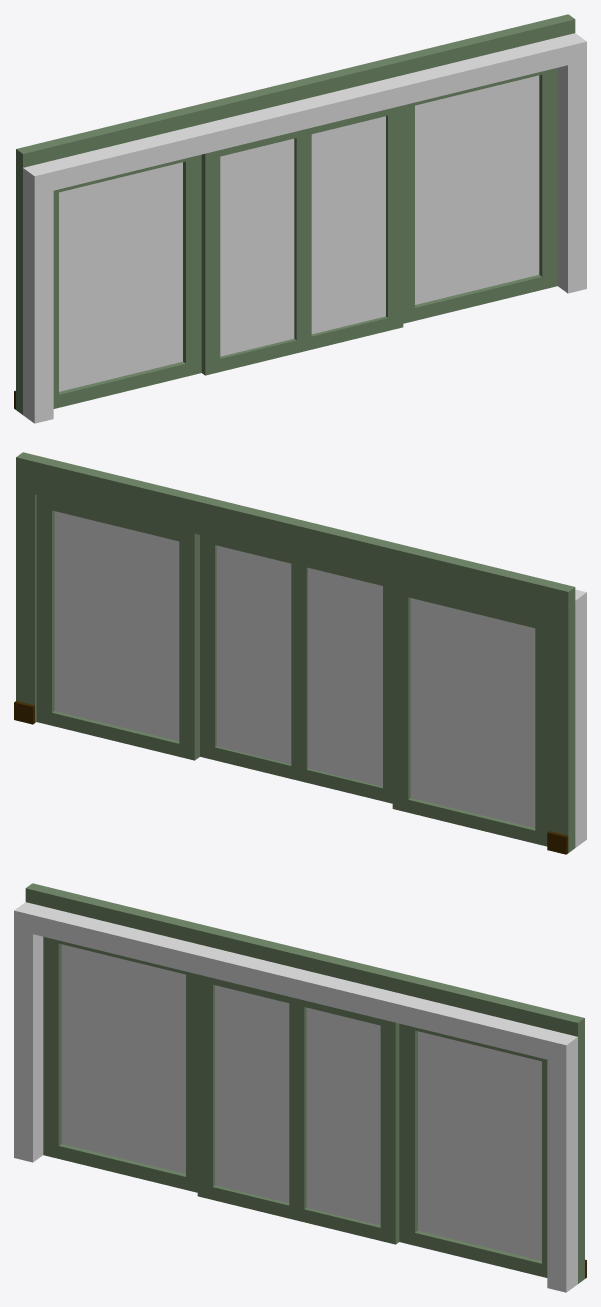
File: Ma_Wall_Entrance.fbx
3 renders of one model, top to bottom at view 1: azimuth 30°, elevation 25°; view 2: azimuth 150°, elevation 25°; view 3: azimuth 330°, elevation 25°, orthographic.
Visible parts, largest first — view 1: Ma_Wall_Entrance; view 2: Ma_Wall_Entrance; view 3: Ma_Wall_Entrance.
Part boxes in pixels (<box>): Ma_Wall_Entrance: <box>14,14,586,423</box>; Ma_Wall_Entrance: <box>14,452,586,854</box>; Ma_Wall_Entrance: <box>14,883,586,1292</box>.
Size of the model in its own units: 6000 by 388 by 2711.
